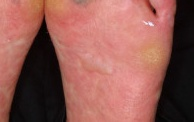SJS-TEN: (44, 0, 176, 121), (0, 0, 43, 121)
